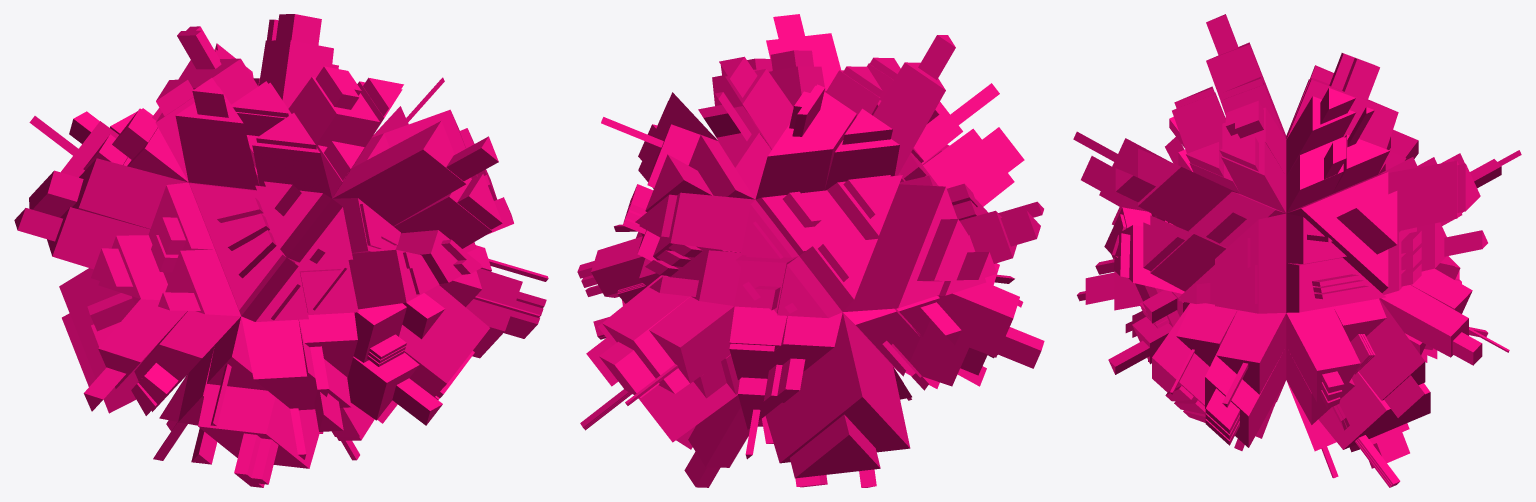
Rendered from ball.dae.
3 views of the same model, side by side, from view 1: azimuth 30°, elevation 25°; view 2: azimuth 150°, elevation 25°; view 3: azimuth 270°, elevation 25° (orthographic). The views are drawn at different scales.
Visible parts, largest first — view 1: GeoSphere01; view 2: GeoSphere01; view 3: GeoSphere01.
Part boxes in pixels (box(x1,y1,x2,y2)): GeoSphere01: box(14, 14, 548, 487); GeoSphere01: box(577, 14, 1044, 487); GeoSphere01: box(1073, 14, 1521, 487).
Size of the model in its own units: 43.08 by 41.18 by 38.99.
